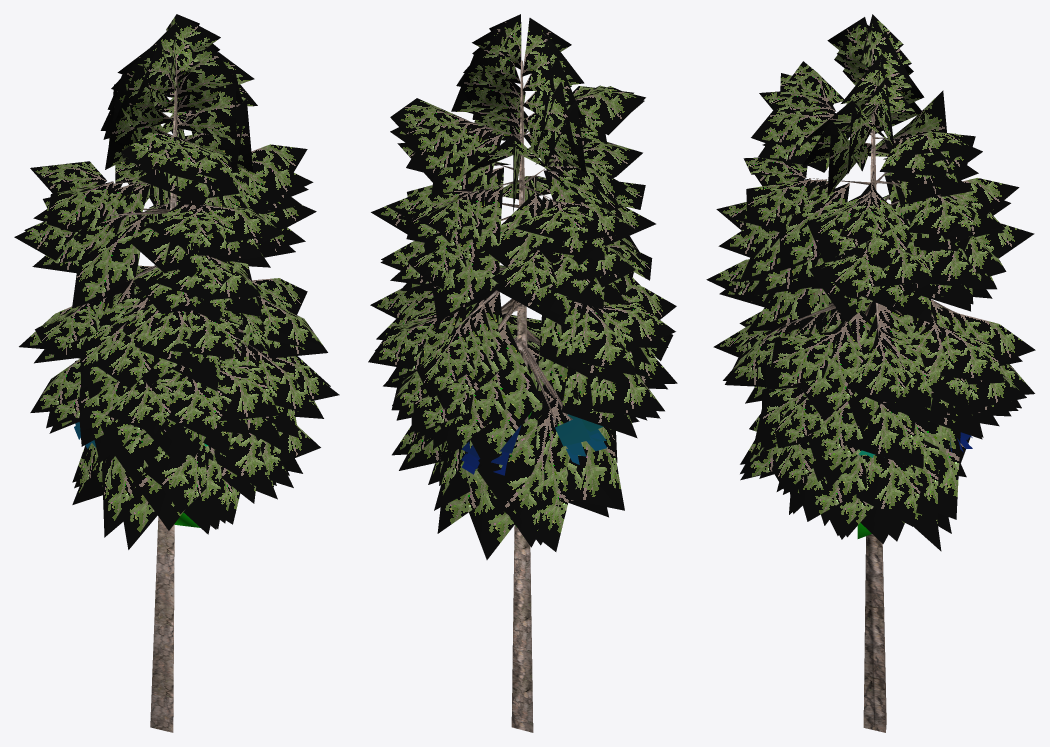
File: Spruce3.fbx
3 views of the same model, side by side, from view 1: azimuth 30°, elevation 25°; view 2: azimuth 150°, elevation 25°; view 3: azimuth 270°, elevation 25° (orthographic).
Visible parts, largest first — view 1: spruce branch_1, bark08_0; view 2: spruce branch_1, bark08_0, branch06_2; view 3: spruce branch_1, bark08_0.
Boxes of the visible parts, x1=… form: spruce branch_1: x1=14, y1=14, x2=339, y2=549; bark08_0: x1=107, y1=77, x2=258, y2=732; spruce branch_1: x1=368, y1=14, x2=677, y2=559; bark08_0: x1=456, y1=60, x2=572, y2=732; branch06_2: x1=461, y1=412, x2=606, y2=527; spruce branch_1: x1=706, y1=14, x2=1035, y2=551; bark08_0: x1=784, y1=61, x2=960, y2=732.
Bounding box in the file's own units: 519 × 1231 × 513.
Materials: 2 (2 with a texture image).
